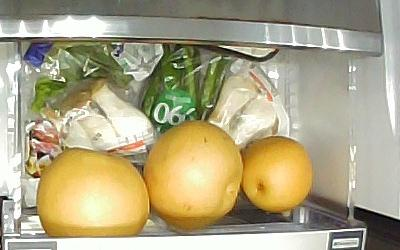pear: (143, 122, 244, 232), (35, 148, 150, 238), (242, 135, 314, 211)
